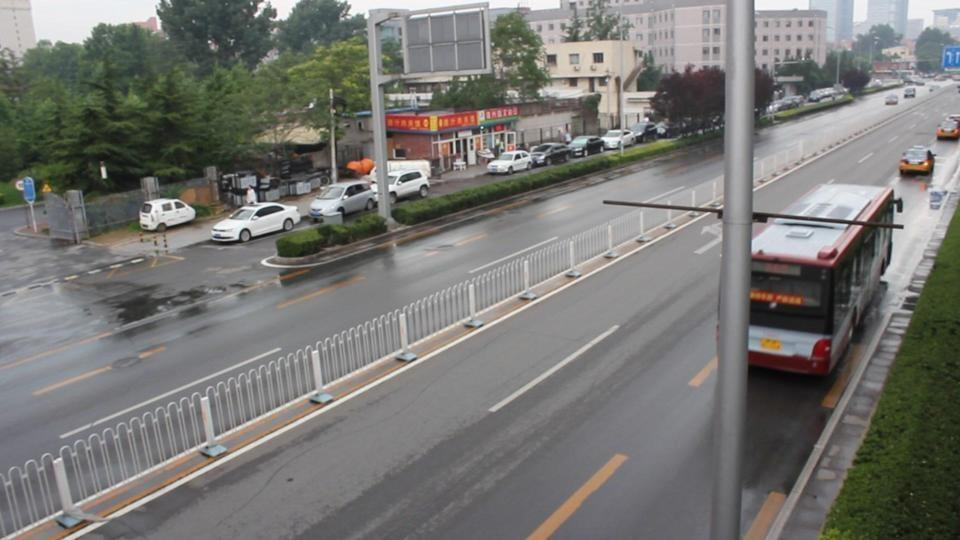car: (211, 202, 301, 244), (306, 181, 378, 223), (368, 166, 431, 203), (139, 198, 196, 232), (486, 150, 534, 175), (898, 145, 934, 177), (528, 142, 572, 167), (567, 136, 605, 159), (627, 122, 663, 145), (601, 129, 633, 151), (935, 116, 960, 140), (806, 87, 838, 103), (885, 93, 898, 105), (903, 87, 916, 98)
